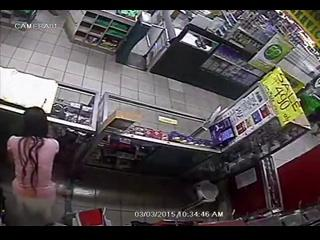Normal: (6, 106, 61, 224)
